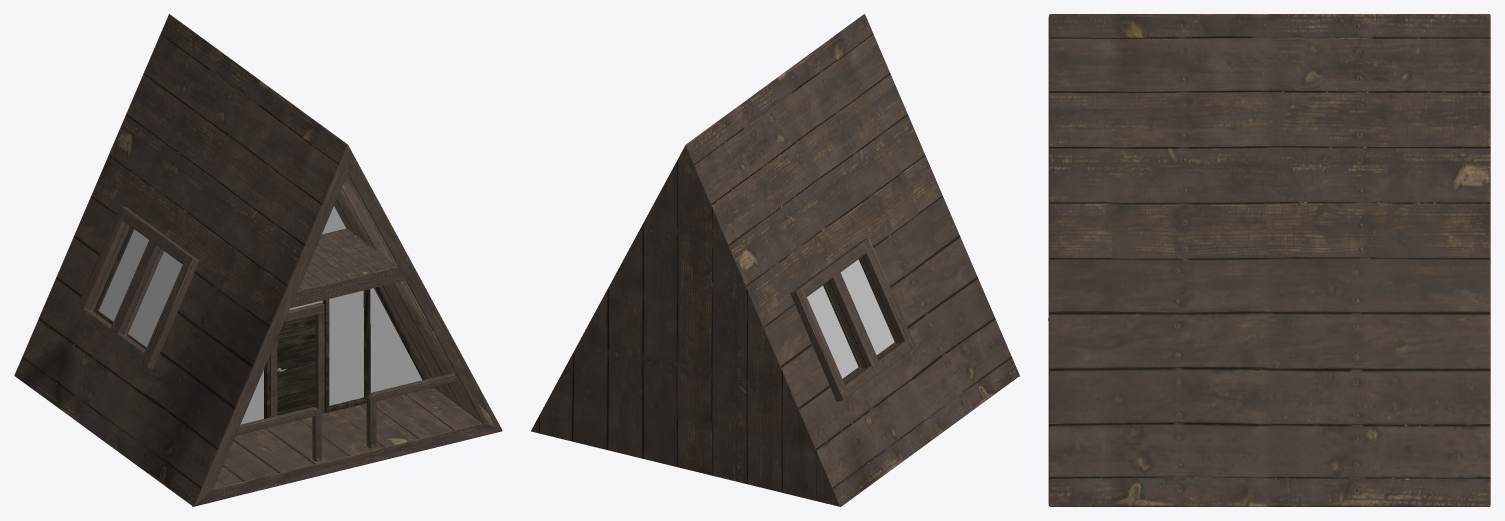
File: Acabana.glb
3 views of the same model, side by side, from view 1: azimuth 30°, elevation 25°; view 2: azimuth 150°, elevation 25°; view 3: azimuth 270°, elevation 25° (orthographic). The views are drawn at different scales.
Visible parts, largest first — view 1: Window left_Siding_0; view 2: Window left_Siding_0; view 3: Window left_Siding_0.
Boxes of the visible parts, x1,y1,x2,y2 form: Window left_Siding_0: [14, 14, 502, 506]; Window left_Siding_0: [531, 14, 1019, 506]; Window left_Siding_0: [1048, 14, 1490, 506].
Size of the model in its own units: 8.24 by 8.24 by 8.26.
6 materials, 3 textured.
